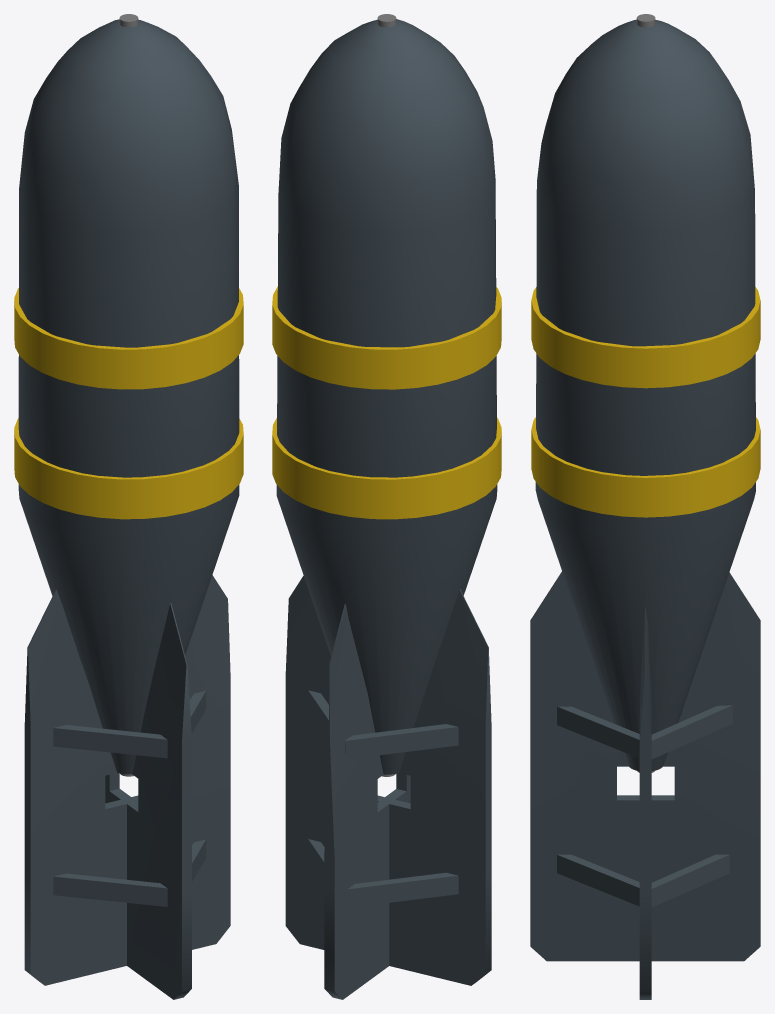
The model's file is bomb3-food..fbx.
3 views of the same model, side by side, from view 1: azimuth 30°, elevation 25°; view 2: azimuth 150°, elevation 25°; view 3: azimuth 270°, elevation 25° (orthographic).
Parts seen in each view (by area): view 1: bomb3-food.; view 2: bomb3-food.; view 3: bomb3-food..
Part boxes in pixels (box(x1,y1,x2,y2)): bomb3-food.: box(14, 14, 243, 999); bomb3-food.: box(272, 14, 501, 999); bomb3-food.: box(530, 14, 760, 999).
Size of the model in its own units: 0.1258 by 0.5648 by 0.1252.
